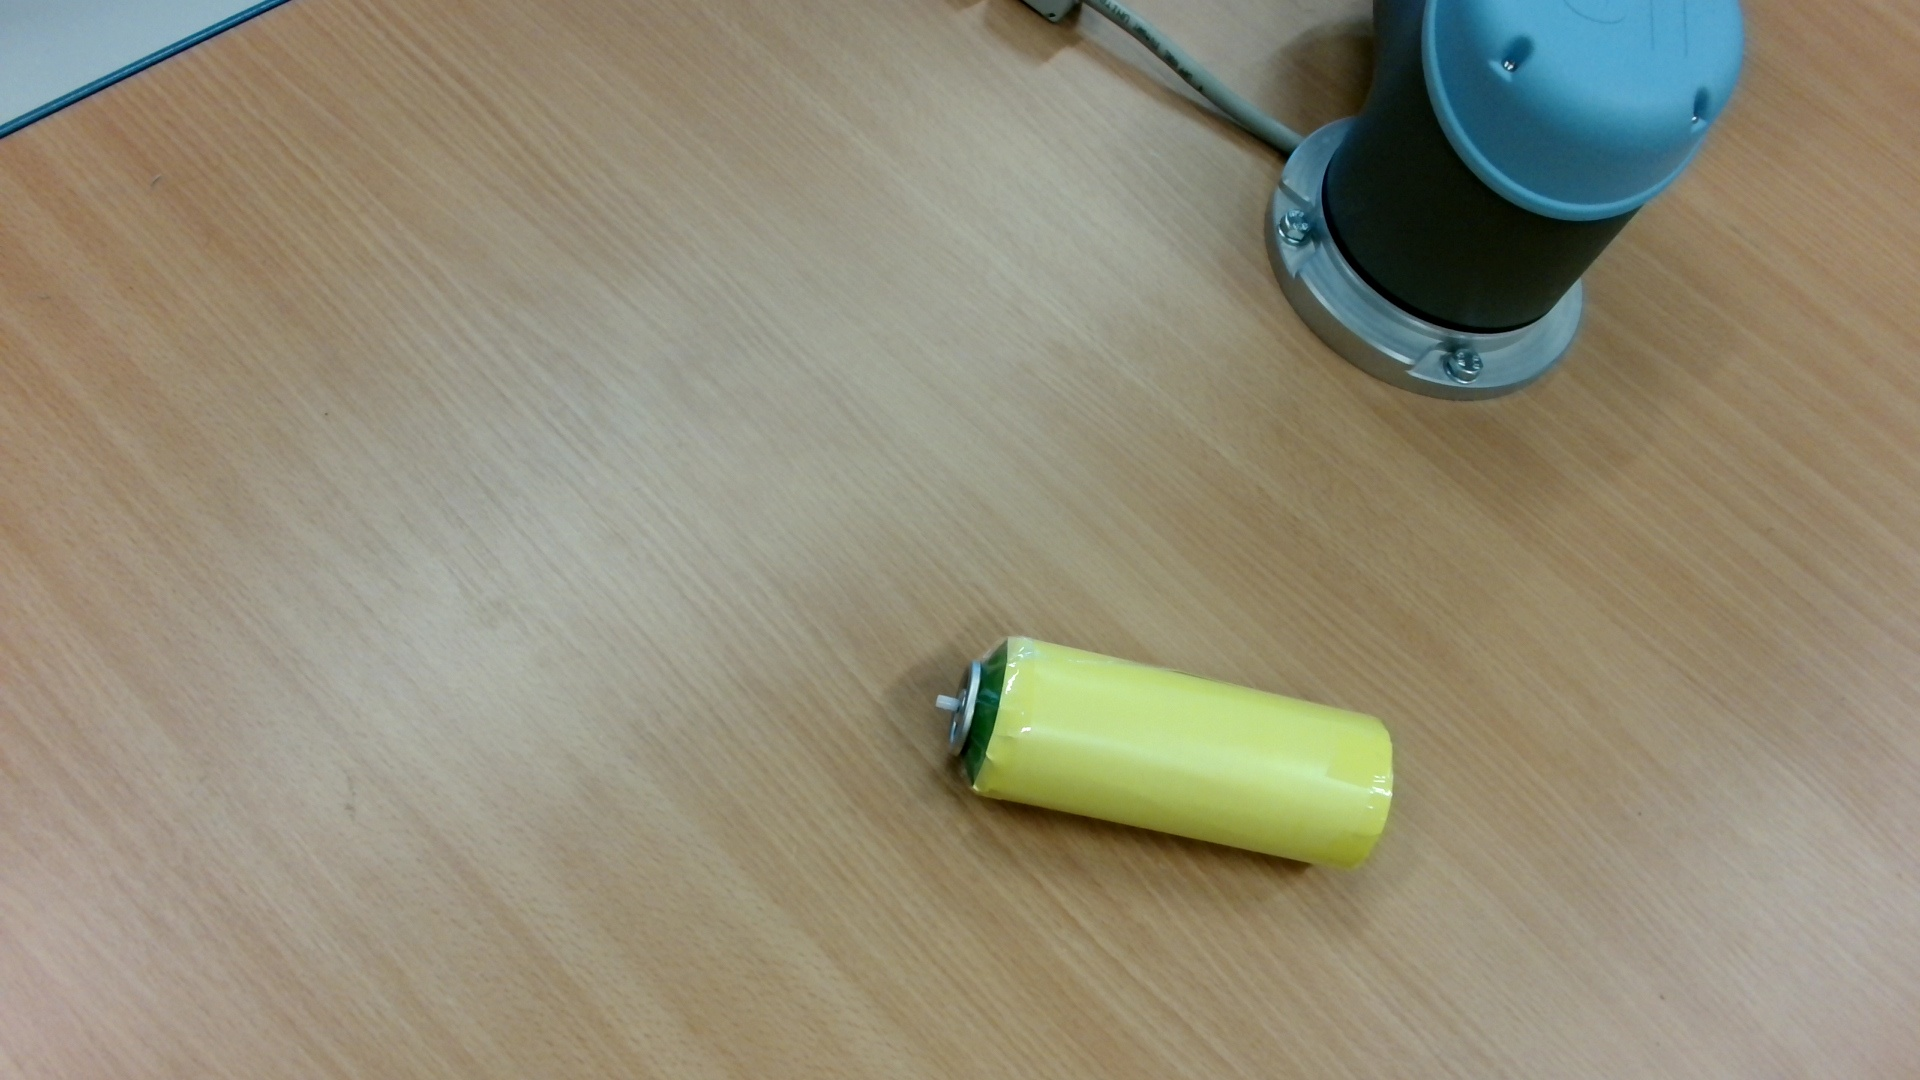Cylinder: (924, 628, 1410, 889)
